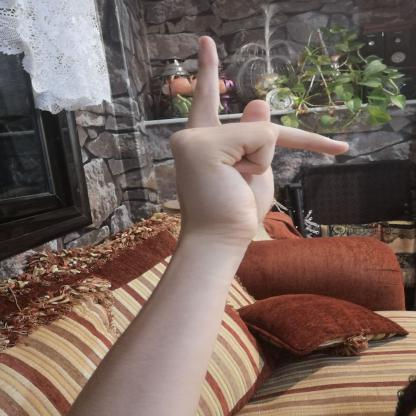DHAA: (158, 27, 363, 259)
